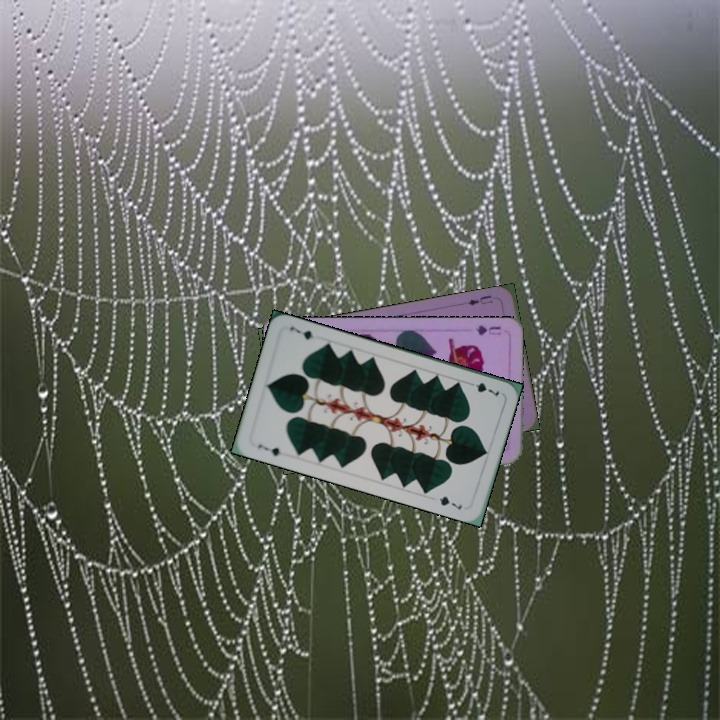EU: (464, 291, 495, 308)
G7: (464, 378, 502, 399), (253, 440, 283, 459)
GU: (472, 321, 503, 338)
